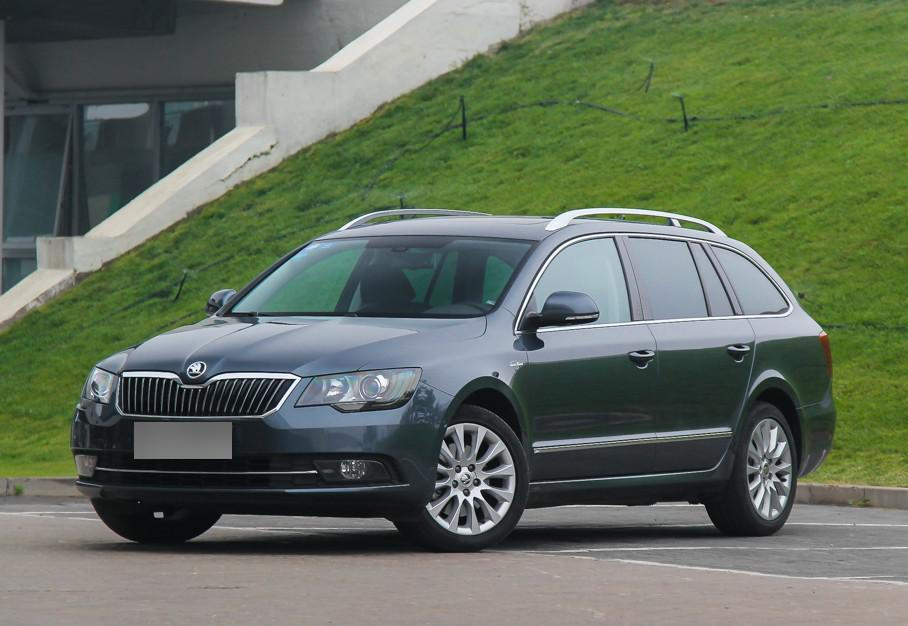Wagon: (72, 207, 837, 553)
